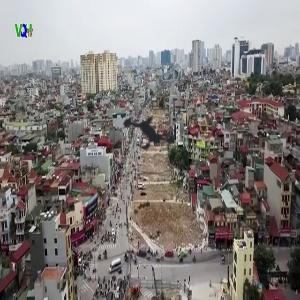drone: (104, 89, 198, 183)
